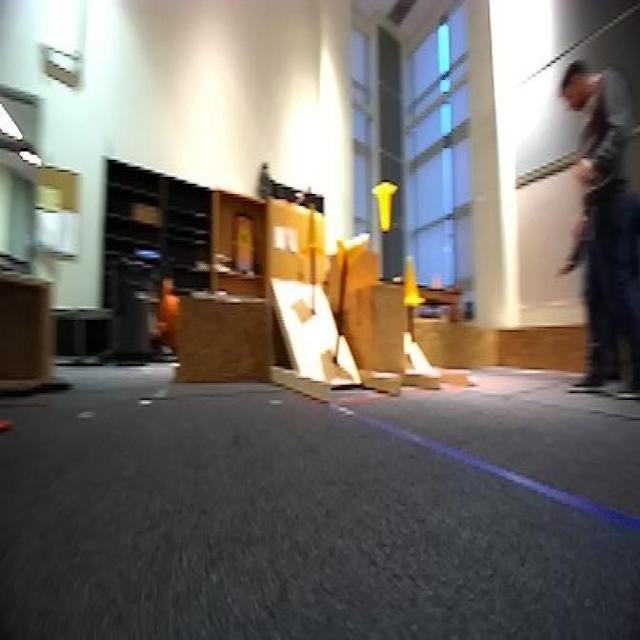frc_cone: (334, 226, 370, 268), (371, 179, 399, 230), (402, 254, 422, 306), (303, 209, 322, 259)
